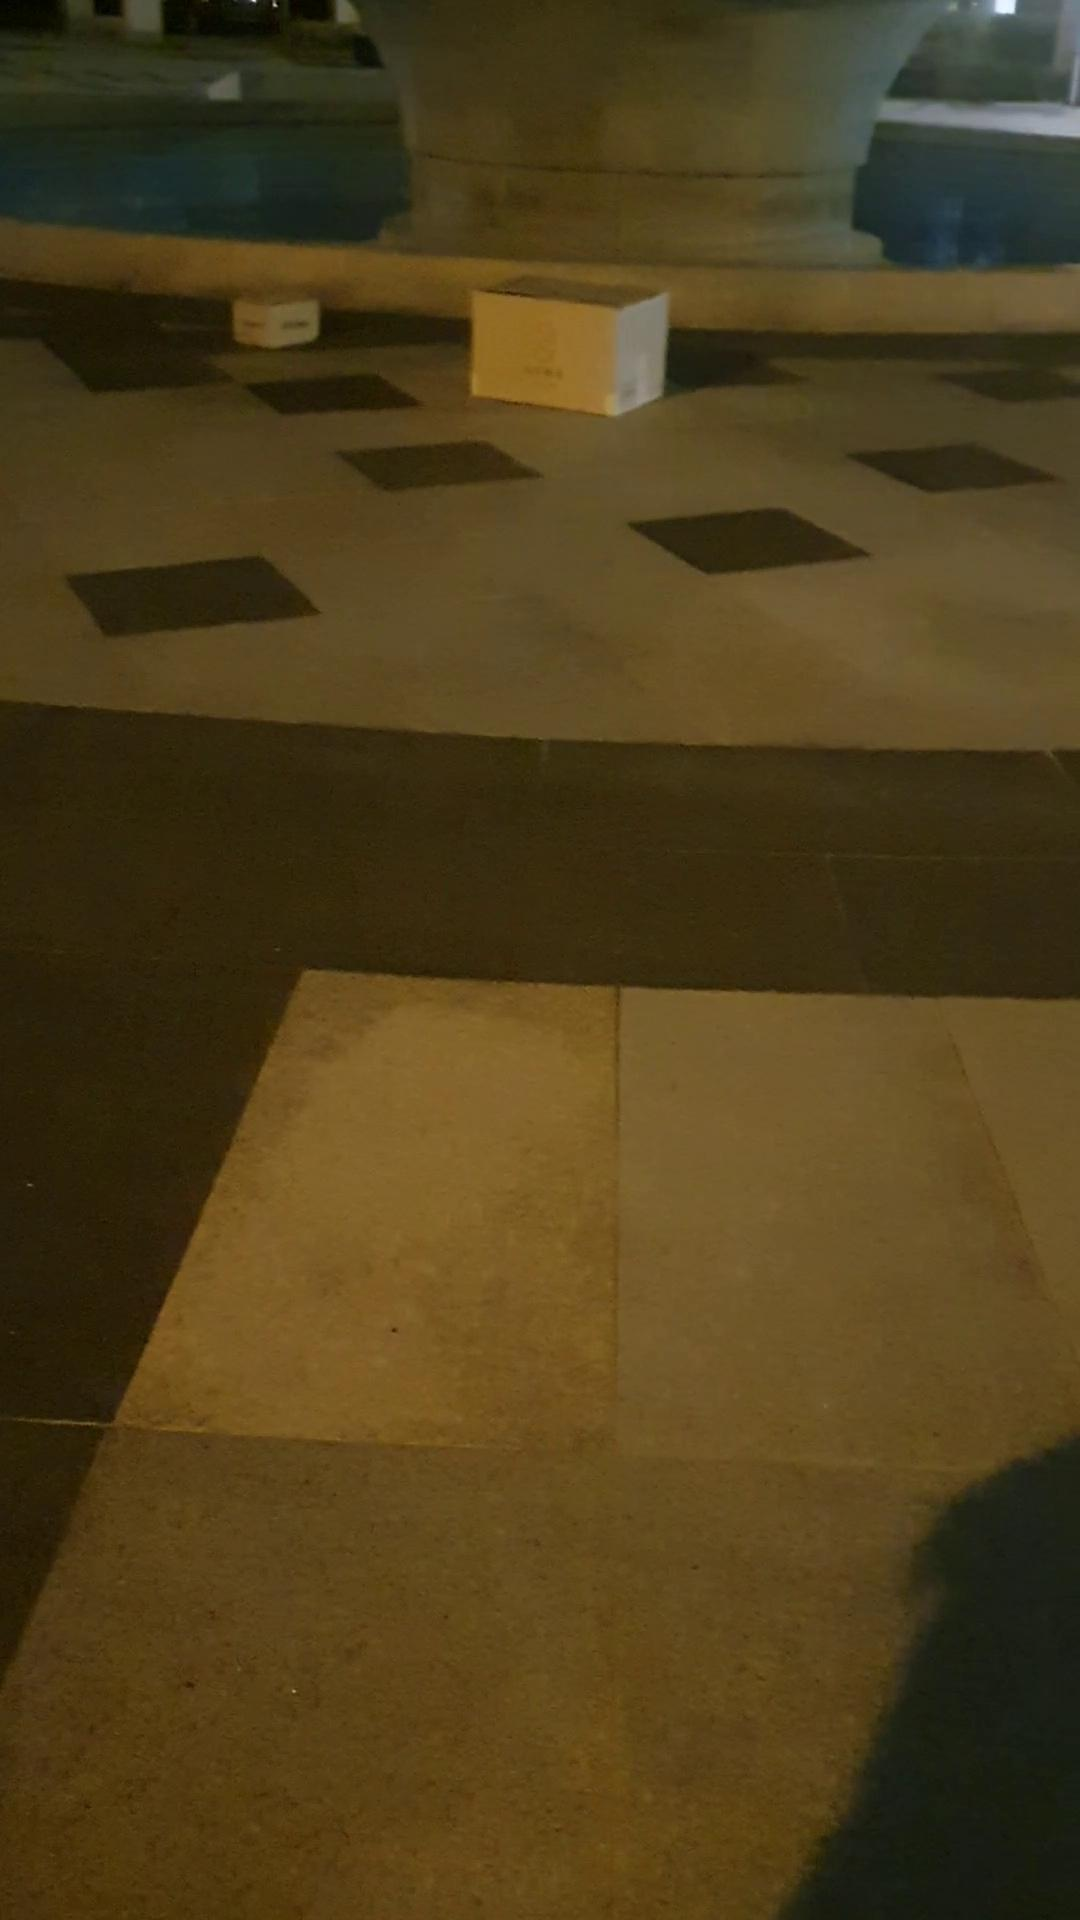Box: (440, 255, 702, 427), (223, 280, 332, 360)
